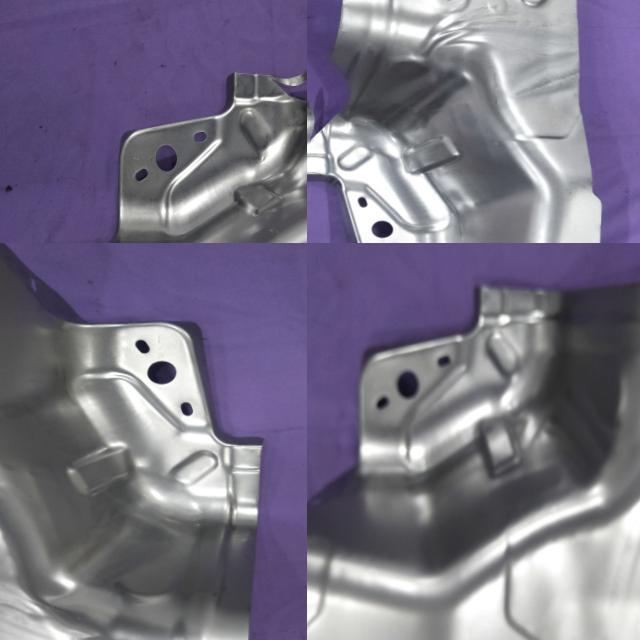Defect: (246, 11, 307, 119), (307, 50, 358, 148)
Healthy: (307, 261, 640, 640), (0, 243, 273, 640)
